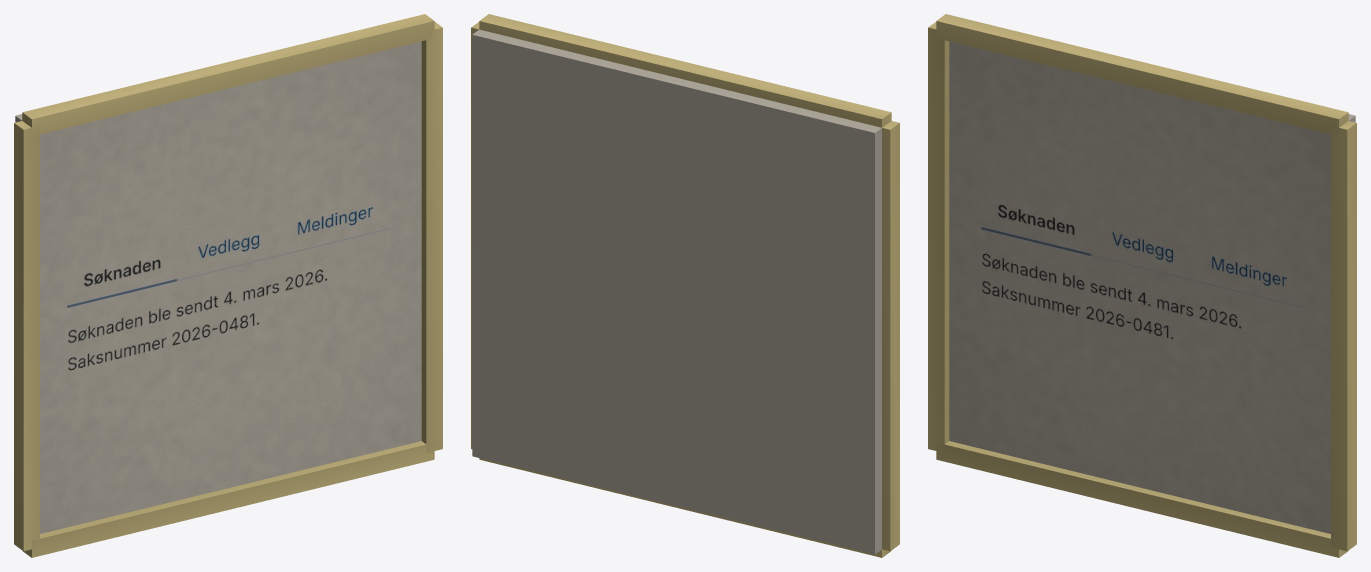
File: gallery_tabs.glb
3 renders of one model, left to right at view 1: azimuth 30°, elevation 25°; view 2: azimuth 150°, elevation 25°; view 3: azimuth 330°, elevation 25°, orthographic.
Parts seen in each view (by area): view 1: plate; view 2: plate; view 3: plate.
Boxes of the visible parts, left/top/right/bottom form: plate: left=14, top=14, right=442, bottom=557; plate: left=471, top=14, right=899, bottom=557; plate: left=928, top=14, right=1356, bottom=557.
Size of the model in its own units: 0.51 by 0.51 by 0.035.
Materials: 2 (1 with a texture image).
